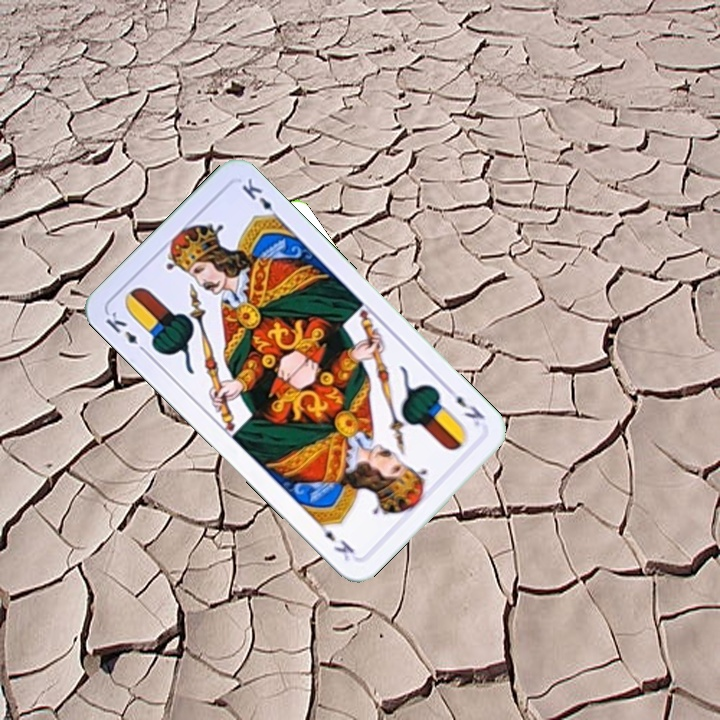EK: (101, 307, 151, 357), (441, 382, 488, 429)
